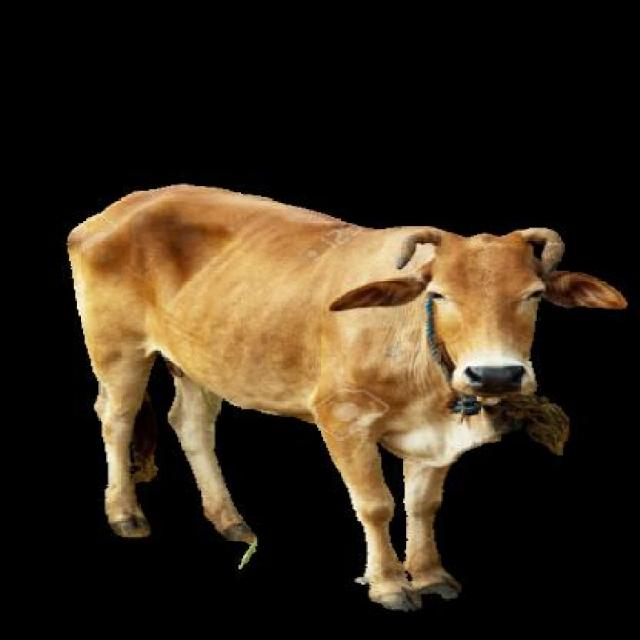Cow: (58, 178, 631, 617)
